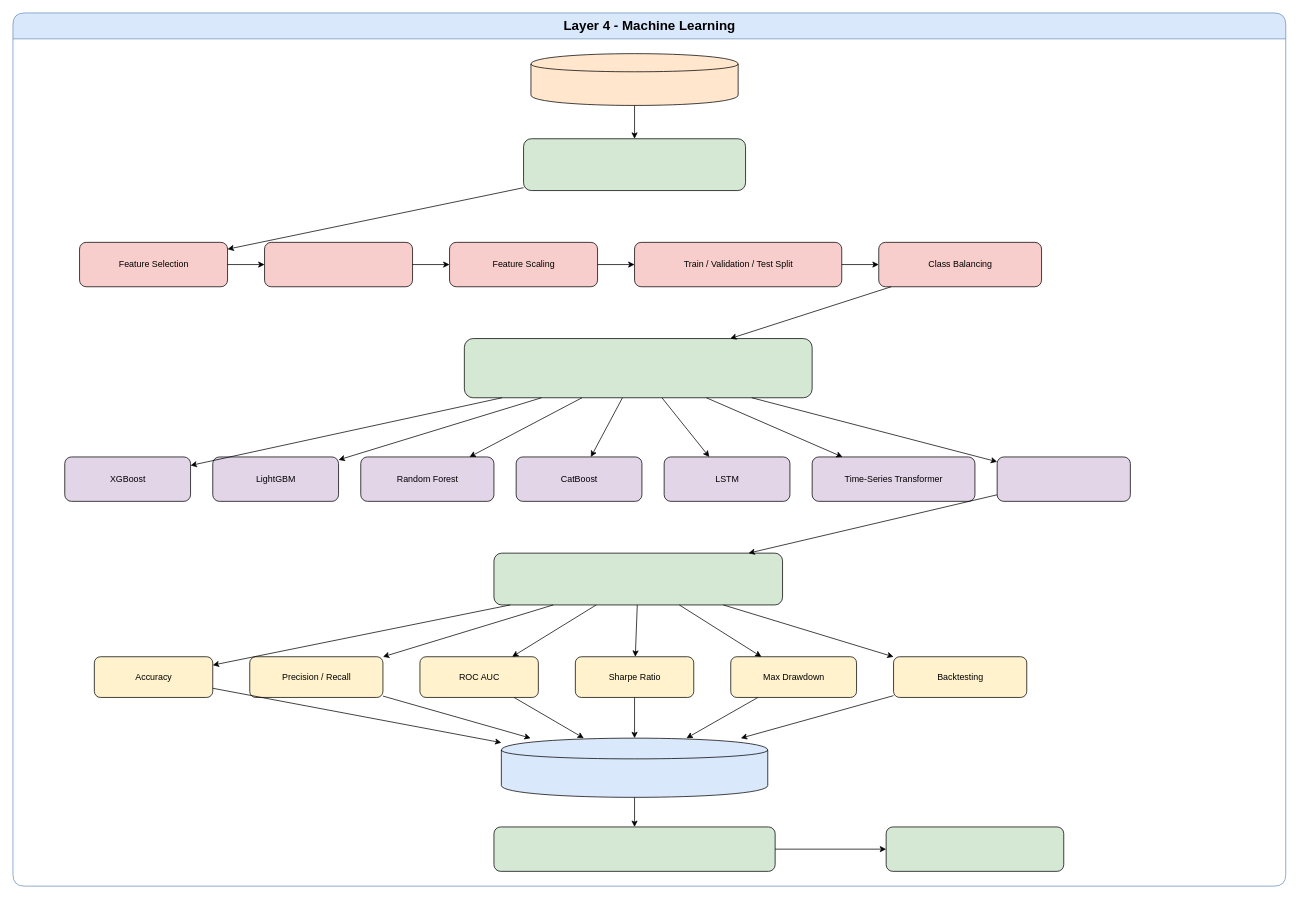
This 1299x899 diagram has some shape labels left out. The shapes that lost their labels are listed below. From the top down, each one's centre as x and y in pixels, then its label:
At (x=634, y=79): "Feature Store (Layer 3)".
At (x=634, y=164): "Dataset Builder".
At (x=338, y=264): "Encoding".
At (x=638, y=368): "ML Training Pipeline".
At (x=1063, y=478): "Ensemble Model".
At (x=638, y=578): "Model Evaluation".
At (x=634, y=767): "MLflow Model Registry".
At (x=634, y=848): "Prediction Service".
At (x=974, y=848): "Layer 5 Signal Generator".
